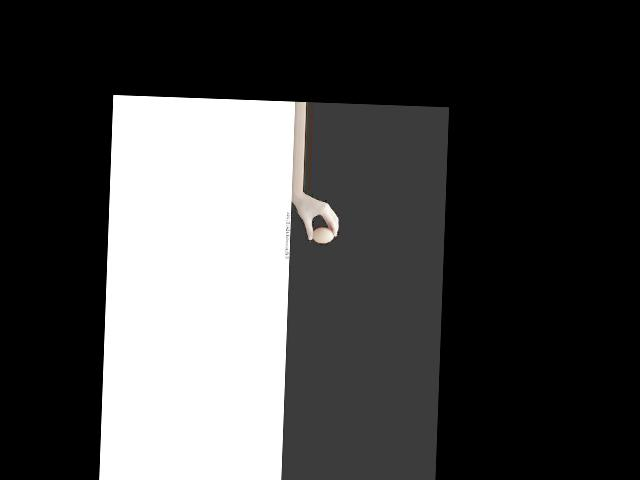egg: (312, 227, 334, 243)
